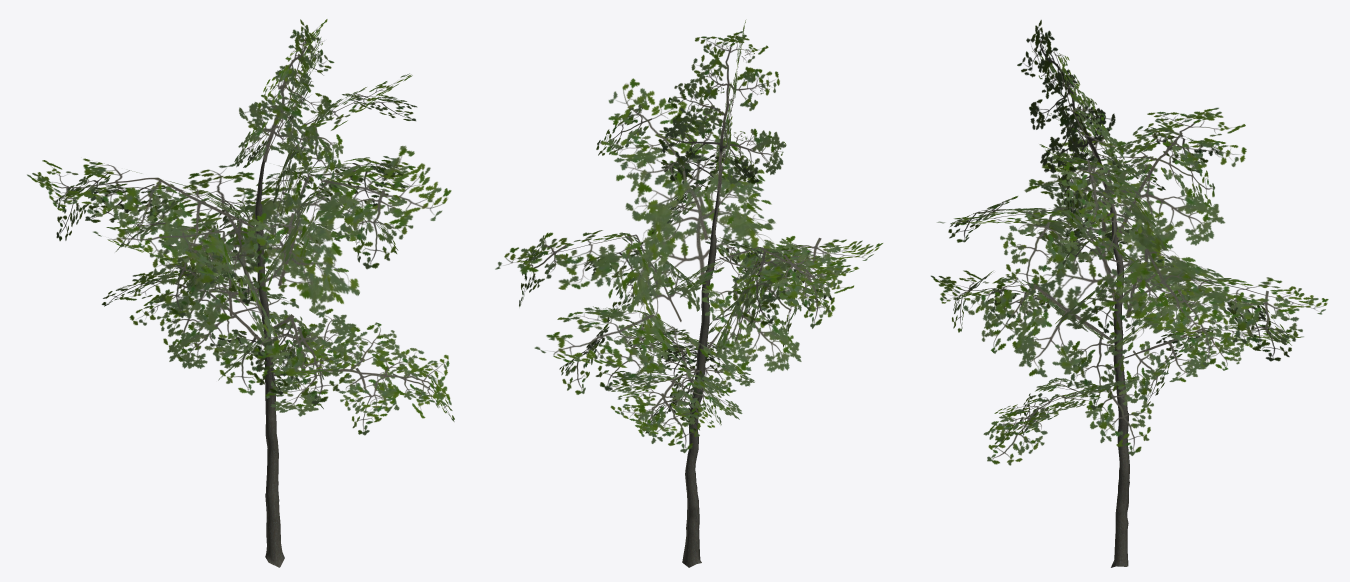
Rendered from oak_small_1.glb.
3 views of the same model, side by side, from view 1: azimuth 30°, elevation 25°; view 2: azimuth 150°, elevation 25°; view 3: azimuth 270°, elevation 25° (orthographic). The views are drawn at different scales.
Visible parts, largest first — view 1: Small_oak_tree__001_LOD1; view 2: Small_oak_tree__001_LOD1; view 3: Small_oak_tree__001_LOD1.
Part boxes in pixels (<box>): Small_oak_tree__001_LOD1: <box>27,19,454,567</box>; Small_oak_tree__001_LOD1: <box>495,20,882,567</box>; Small_oak_tree__001_LOD1: <box>931,20,1328,567</box>.
Size of the model in its own units: 3.86 by 5.68 by 3.92.
Materials: 2 (2 with a texture image).
